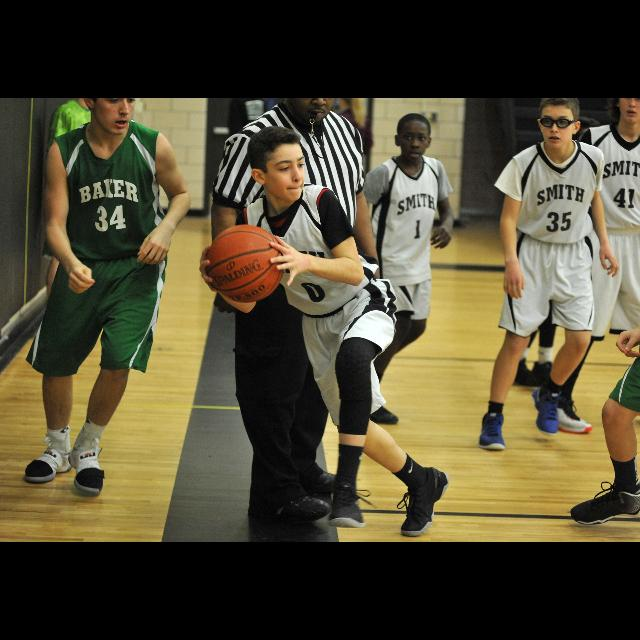head: (247, 128, 307, 204), (248, 130, 306, 202), (538, 98, 582, 150), (84, 98, 136, 136), (395, 112, 433, 162)
person: (200, 125, 452, 538), (208, 98, 384, 520), (21, 99, 192, 498), (475, 98, 621, 454), (357, 112, 457, 430)
